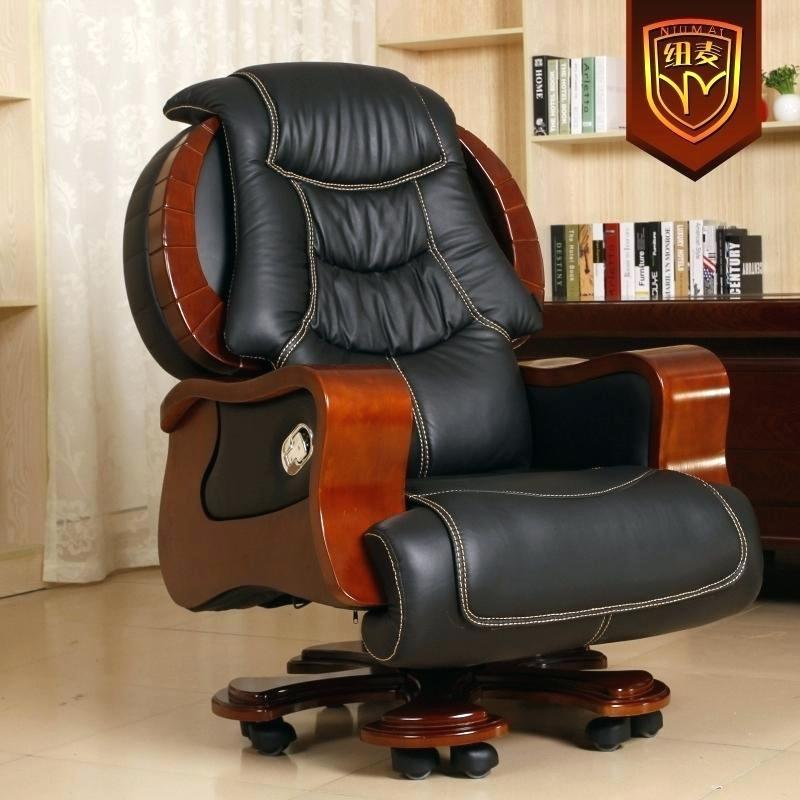chairs: (122, 59, 764, 784)
